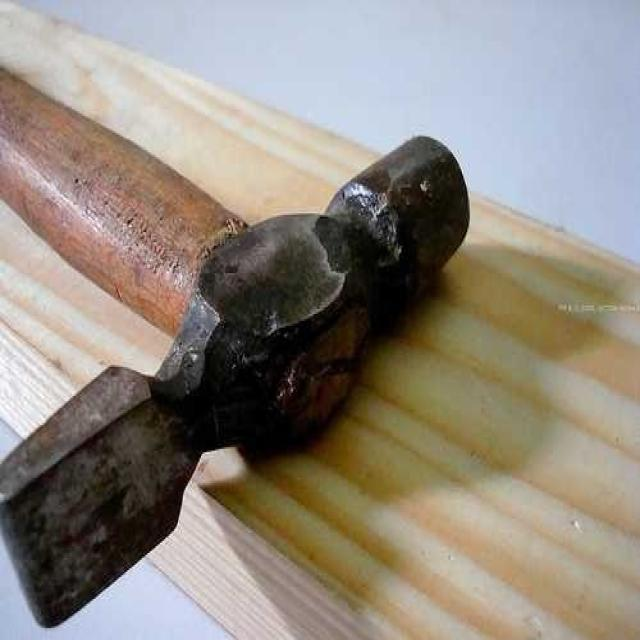hammer: (0, 64, 470, 627)
